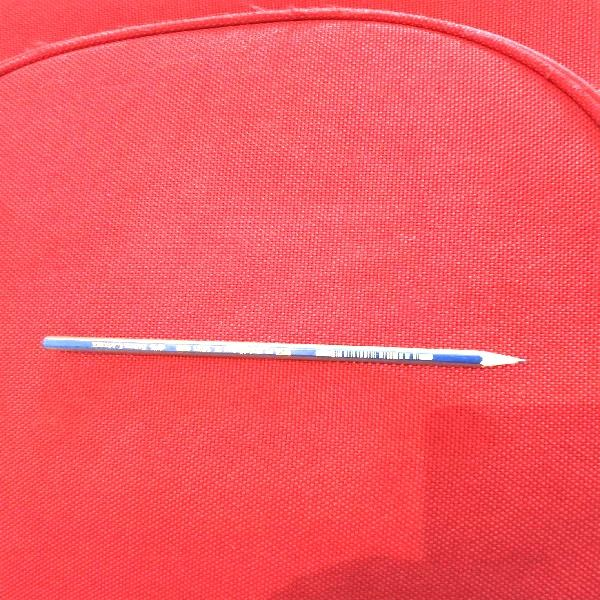pencil: (43, 334, 528, 367)
